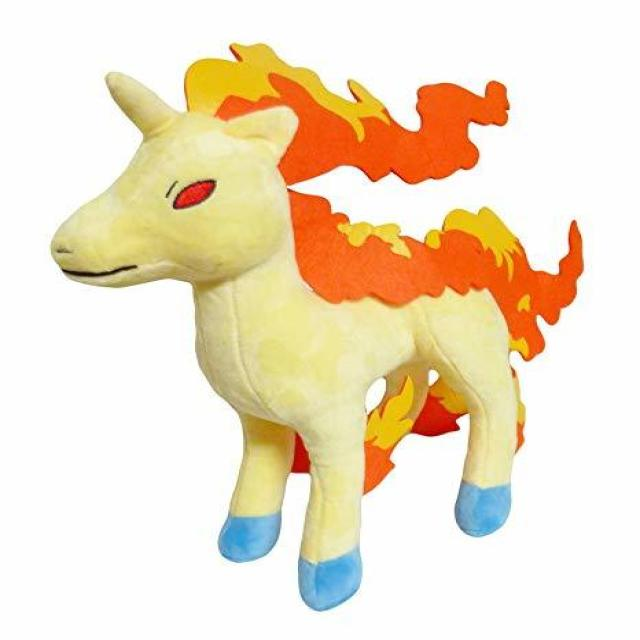Rapidash: (55, 49, 596, 606)
